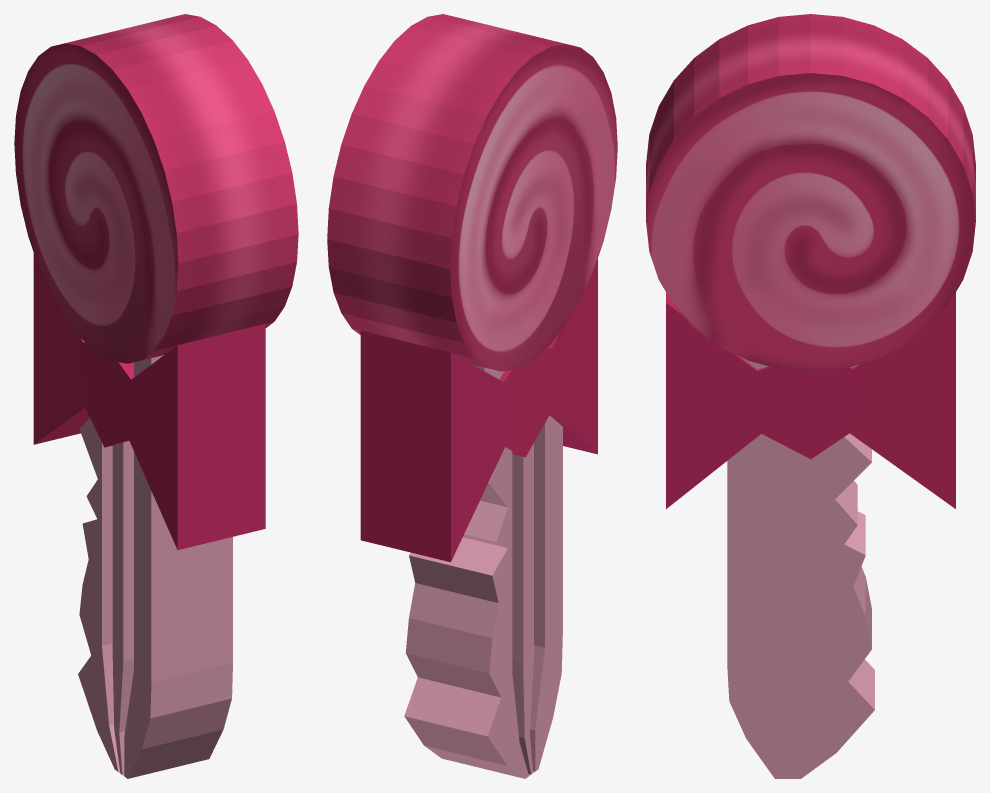
Rendered from key.fbx.
The picture shows the model from 3 angles, left to right: view 1: azimuth 30°, elevation 25°; view 2: azimuth 150°, elevation 25°; view 3: azimuth 270°, elevation 25°; orthographic projection. The views are drawn at different scales.
Parts seen in each view (by area): view 1: Cylinder, Cube.004, Cube.005; view 2: Cylinder, Cube.004, Cube.005; view 3: Cylinder, Cube.004, Cube.005.
Boxes of the visible parts, <box> form: Cylinder: <box>14,14,298,363</box>; Cube.004: <box>78,355,232,778</box>; Cube.005: <box>33,253,265,549</box>; Cylinder: <box>327,14,617,371</box>; Cube.004: <box>404,364,562,778</box>; Cube.005: <box>360,258,597,562</box>; Cylinder: <box>646,14,975,371</box>; Cube.004: <box>727,357,874,778</box>; Cube.005: <box>666,292,955,508</box>.
Size of the model in its own units: 84.76 by 481 by 200.
